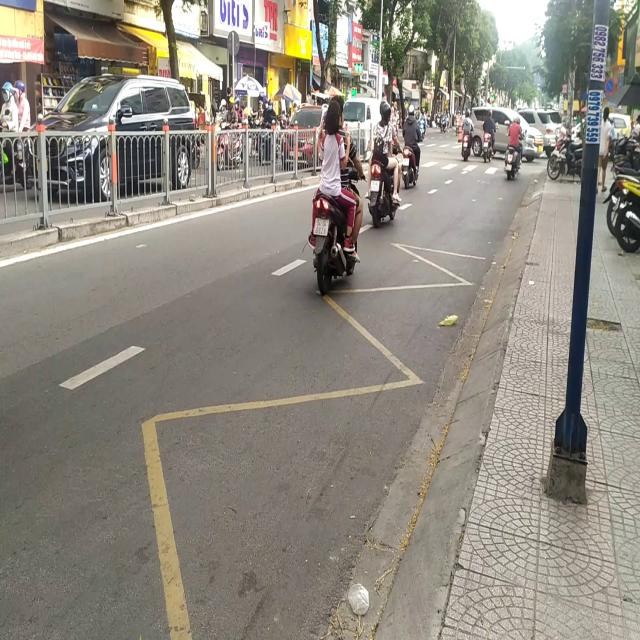bien_trang: (313, 216, 329, 237)
